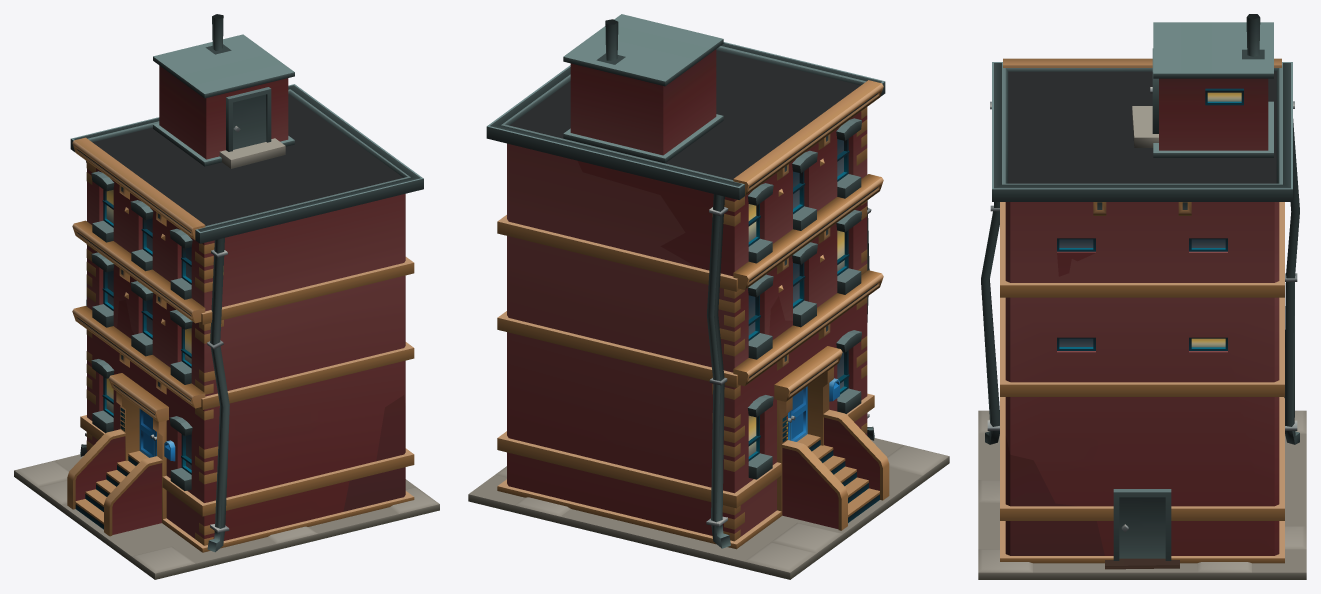
The model's file is Building_5A.fbx.
The picture shows the model from 3 angles, left to right: view 1: azimuth 30°, elevation 25°; view 2: azimuth 150°, elevation 25°; view 3: azimuth 270°, elevation 25°; orthographic projection. The views are drawn at different scales.
Visible parts, largest first — view 1: Building_5A, Window_Lights_5A; view 2: Building_5A, Window_Lights_5A; view 3: Building_5A, Window_Lights_5A.
Part boxes in pixels (x1=…): Building_5A: x1=14, y1=14, x2=439, y2=579; Window_Lights_5A: x1=106, y1=190, x2=191, y2=413; Building_5A: x1=468, y1=14, x2=949, y2=579; Window_Lights_5A: x1=748, y1=204, x2=844, y2=456; Building_5A: x1=978, y1=14, x2=1306, y2=579; Window_Lights_5A: x1=1191, y1=92, x2=1241, y2=347.
Bounding box in the file's own units: 1400 × 2033 × 1200.
